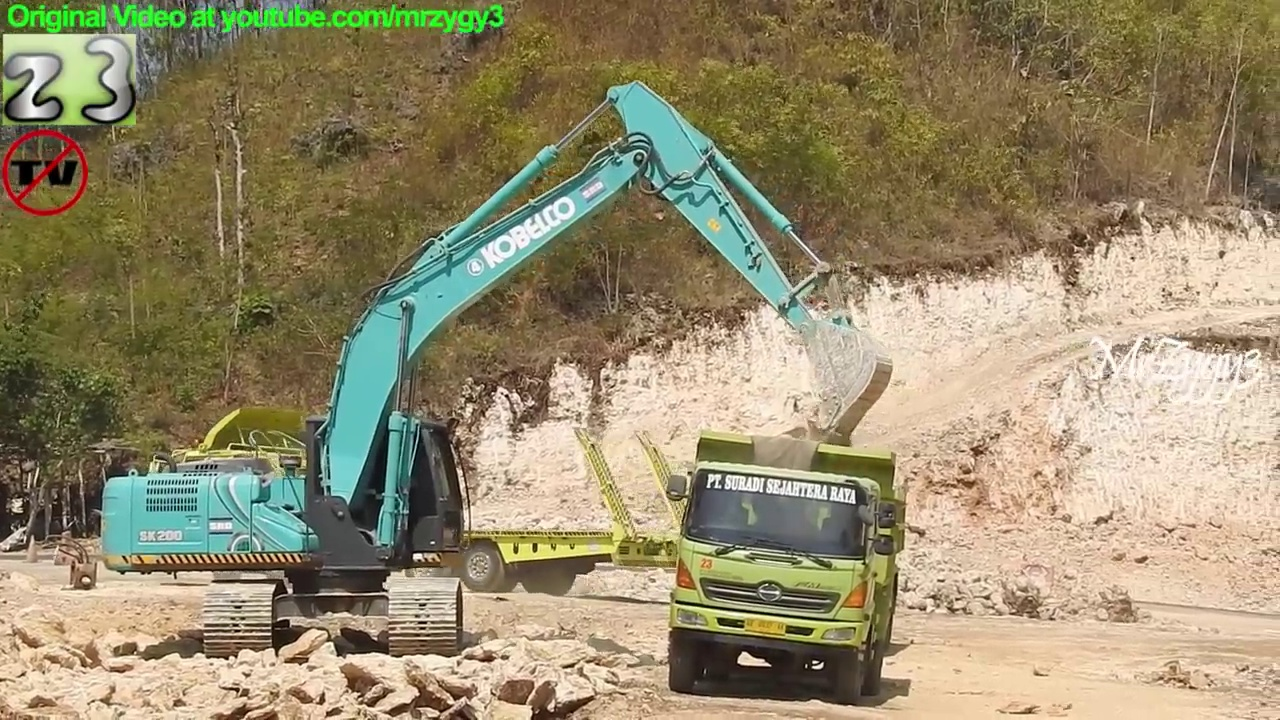excavator: (91, 74, 899, 662)
truck: (137, 400, 710, 599), (661, 423, 910, 710)
